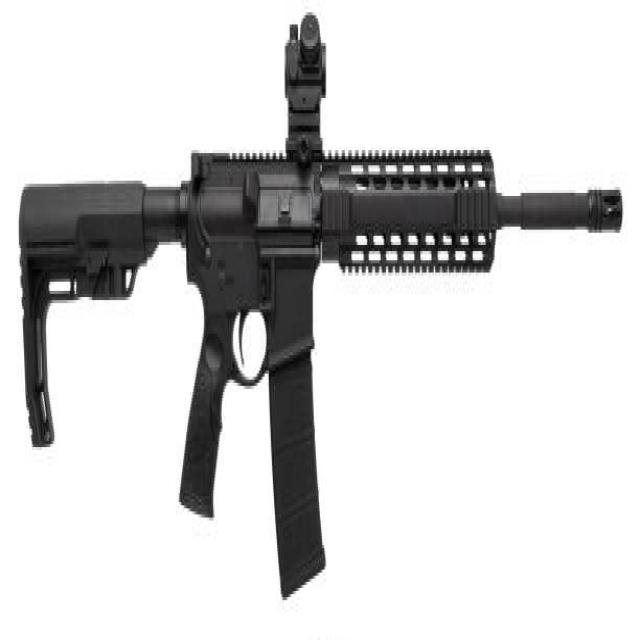rifle: (13, 1, 625, 625)
